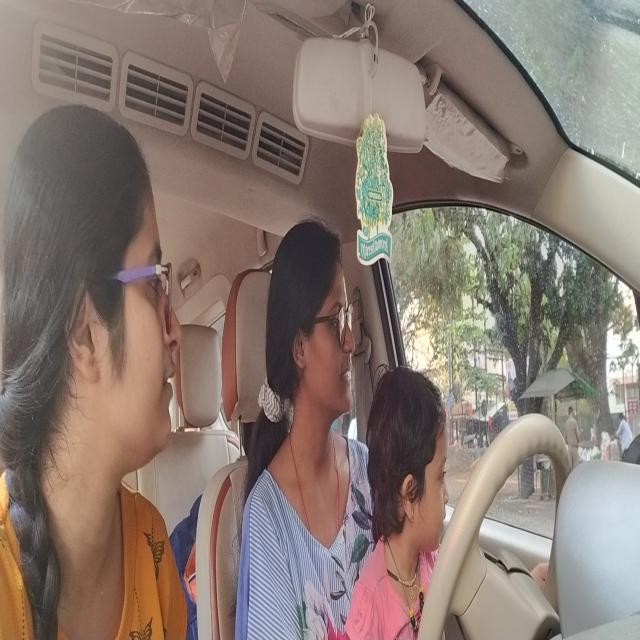child: (366, 359, 451, 565)
person: (0, 93, 185, 509), (264, 208, 360, 448)
